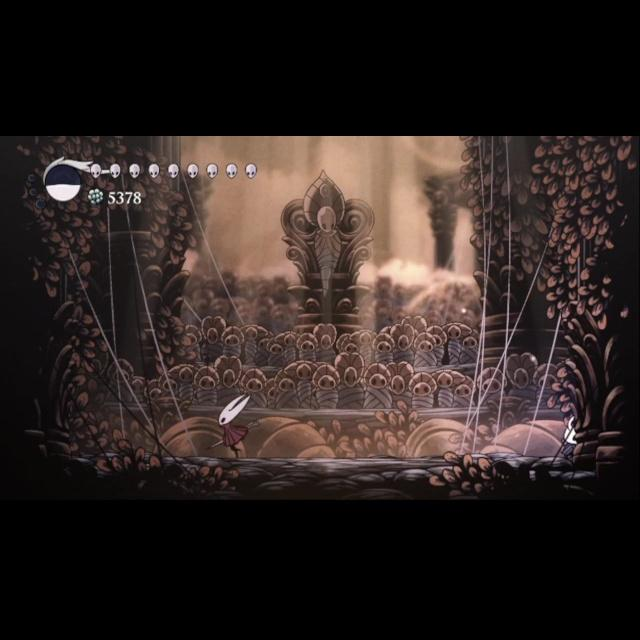Enemy: (202, 388, 266, 459)
Player: (550, 414, 584, 458)
